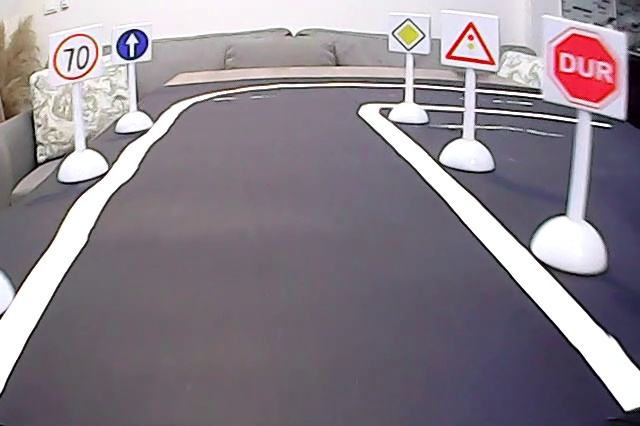red light: (446, 13, 496, 68)
speed limit 70: (50, 34, 105, 84)
stop sign: (545, 20, 626, 109)
